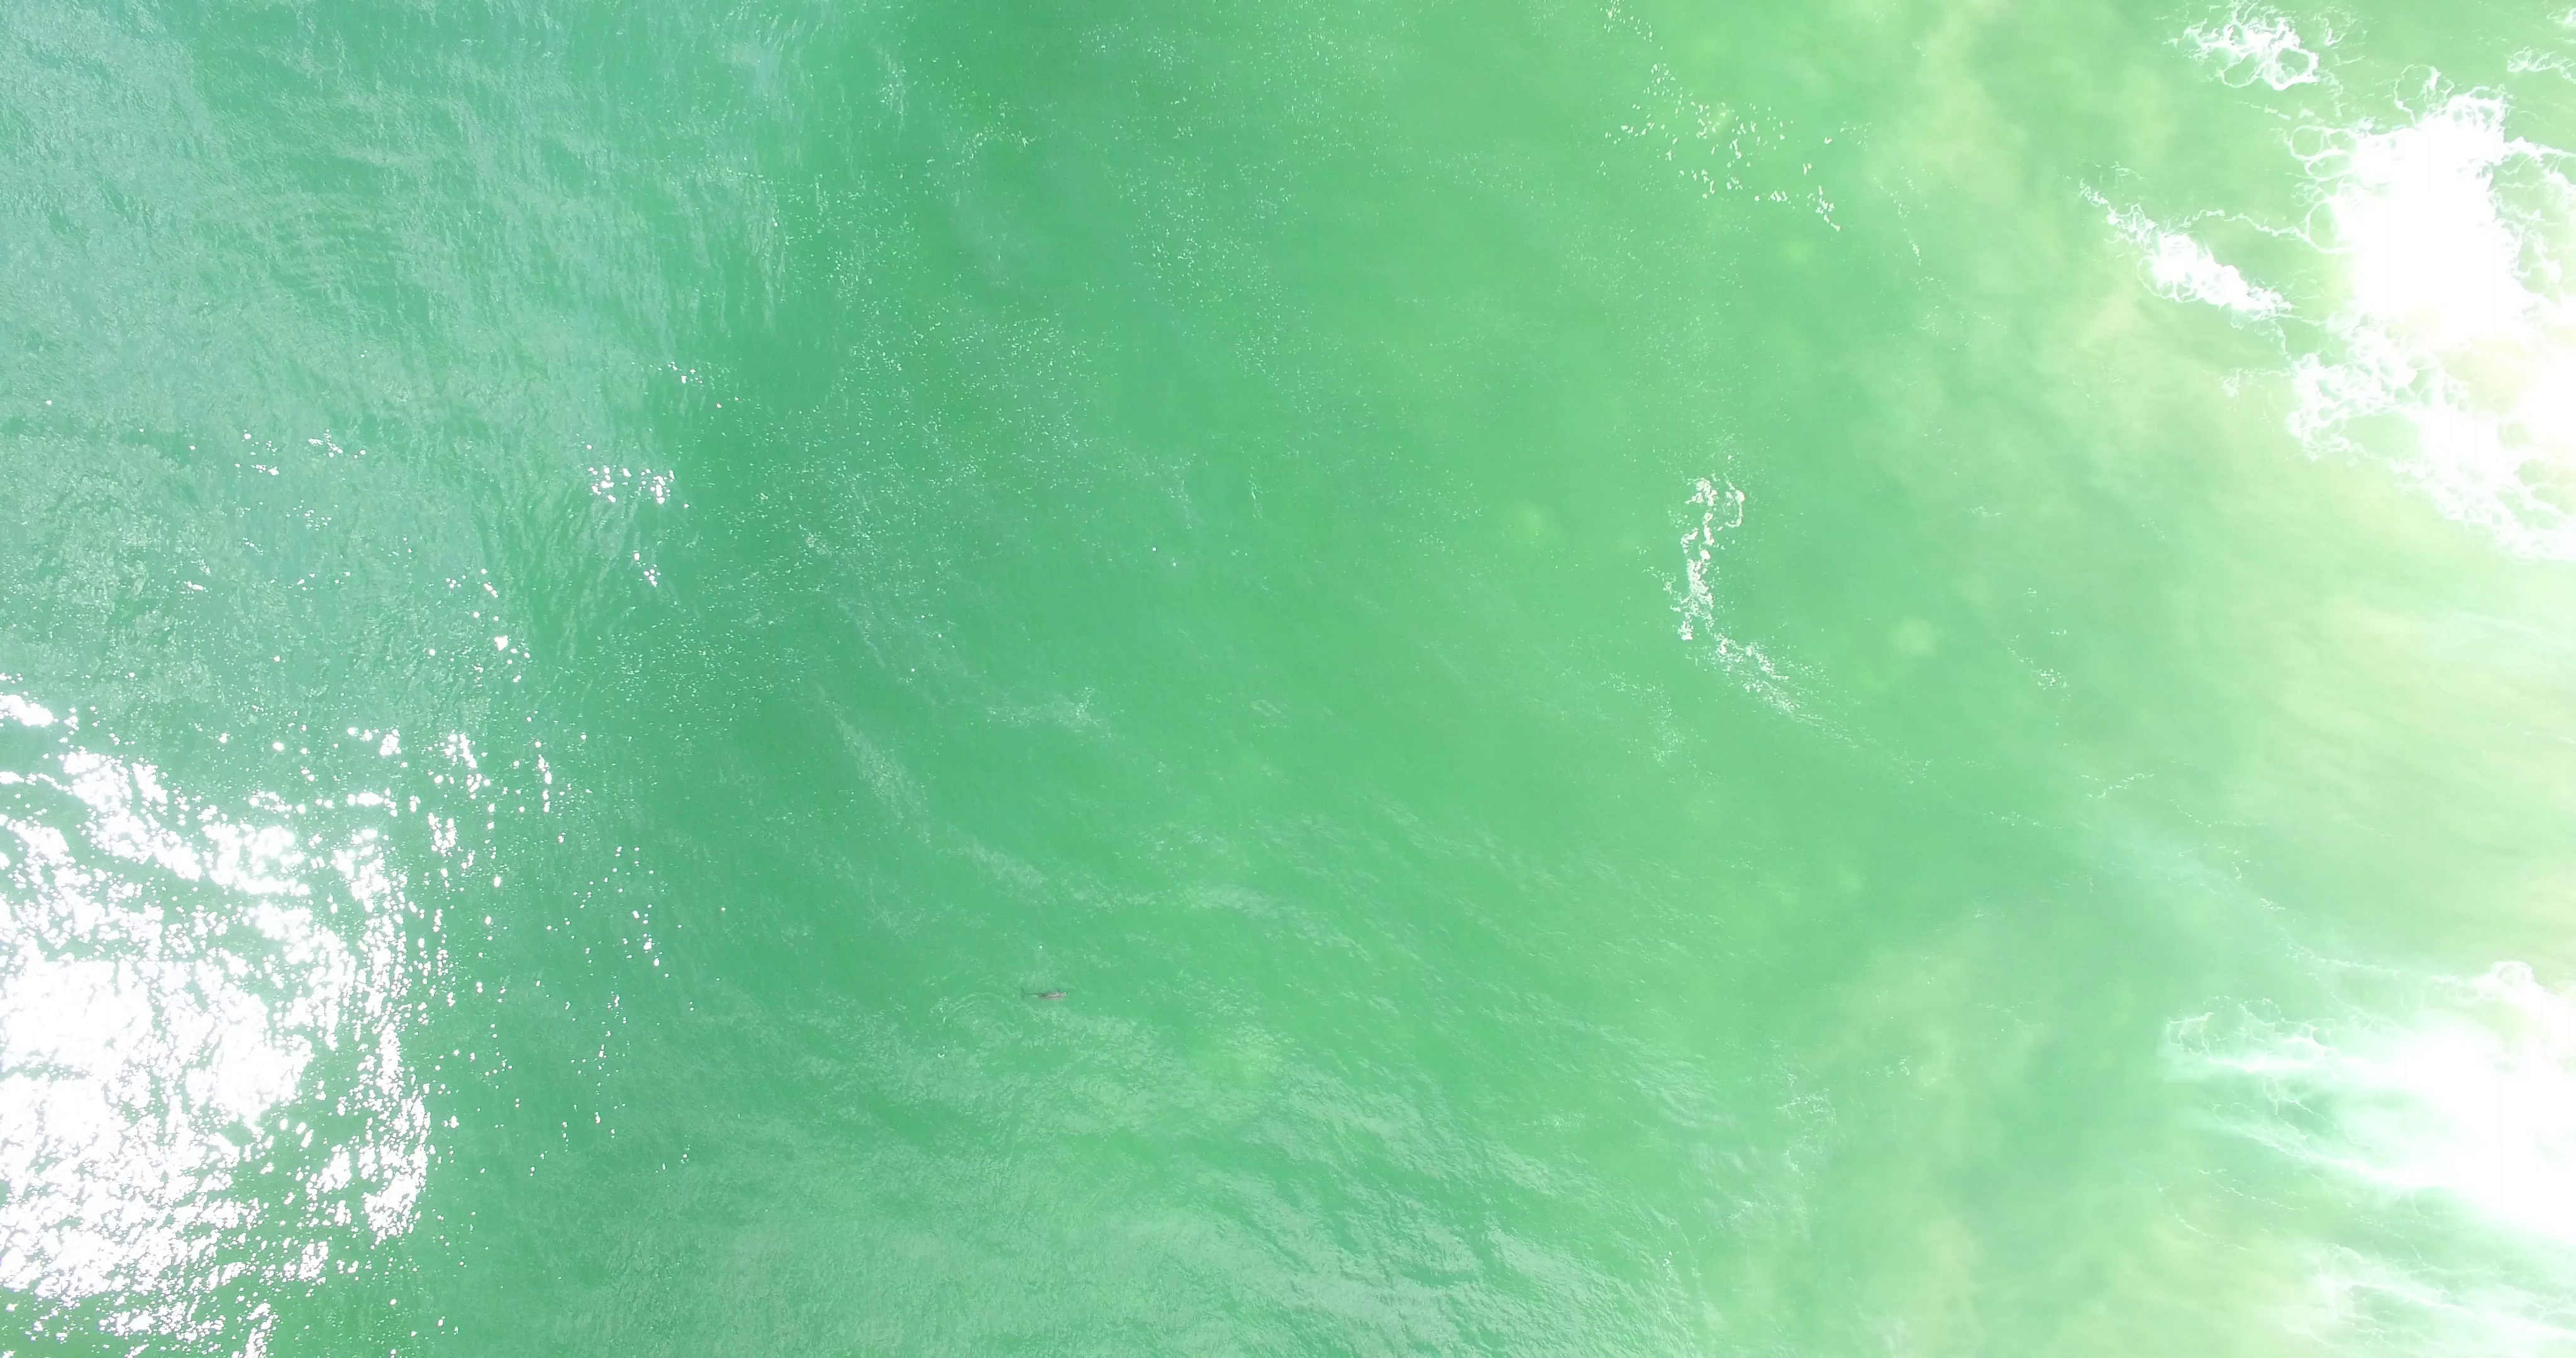dolphin: (1017, 988, 1072, 1002)
